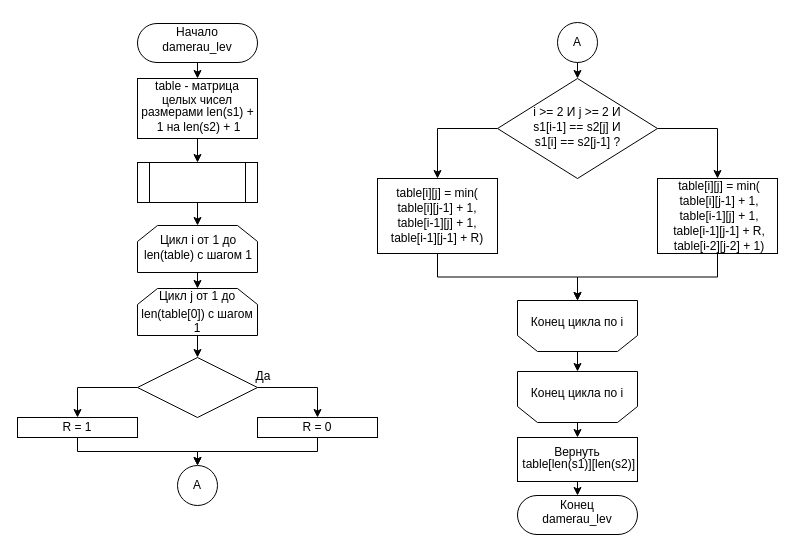
Some shapes in this 795 by 552 pixel diagram are drawn without their labels. Each missing label, with the box of its shape:
s1[i] == s2[j]: (136, 356, 258, 418)
table_fill(table): (136, 162, 258, 202)
